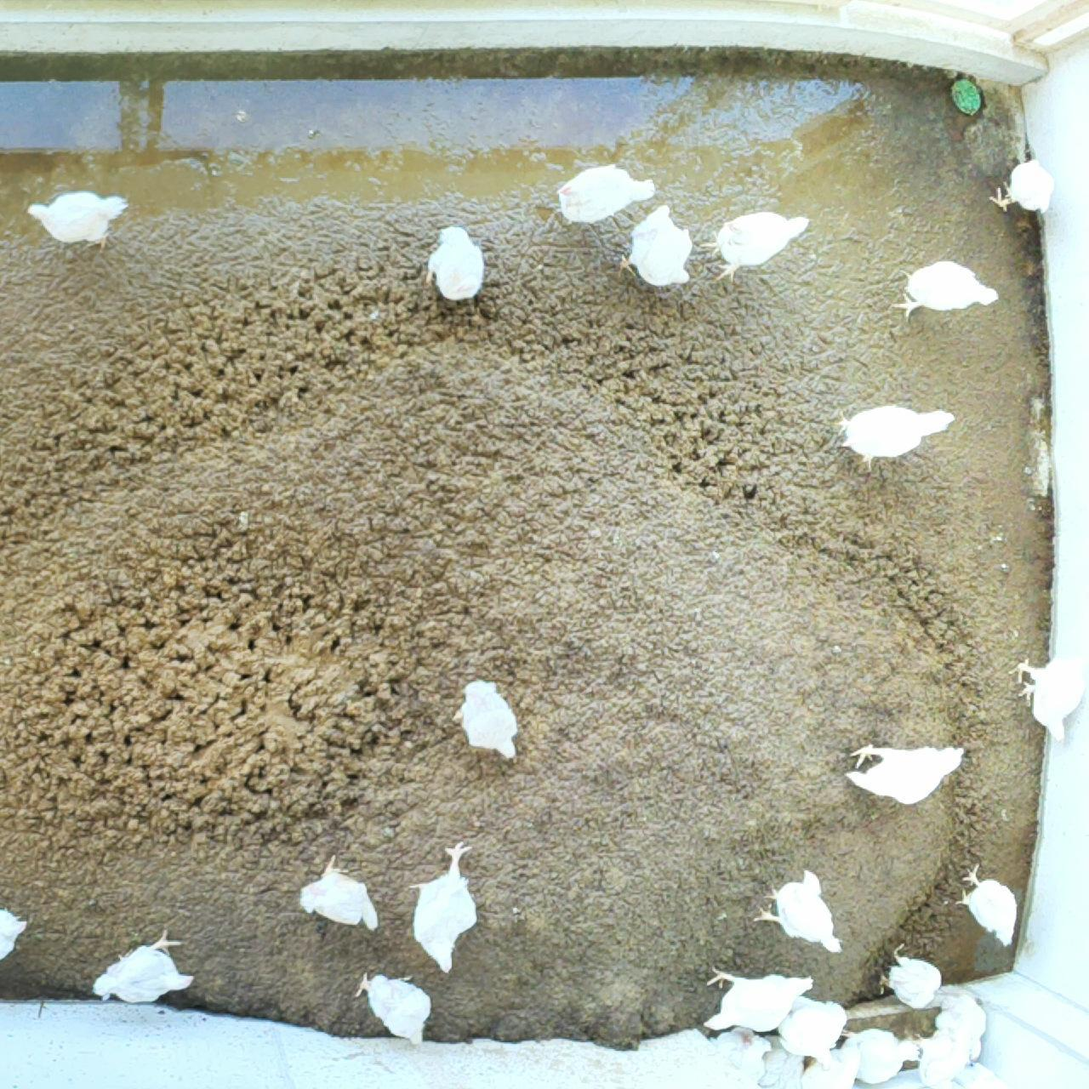chicken: (701, 966, 818, 1038), (414, 846, 478, 976), (88, 932, 195, 1006), (836, 404, 955, 470), (846, 744, 963, 807), (25, 187, 131, 252), (1006, 658, 1089, 741), (763, 867, 838, 955), (710, 212, 811, 277), (556, 162, 657, 222), (449, 682, 522, 763), (618, 202, 687, 286), (832, 1027, 925, 1089), (301, 863, 382, 934), (903, 260, 998, 314), (361, 978, 427, 1050), (961, 864, 1018, 944), (425, 223, 484, 299), (780, 991, 845, 1059), (881, 943, 947, 1008), (984, 161, 1052, 213), (912, 1031, 968, 1086), (944, 1002, 982, 1055), (1, 908, 26, 966)
